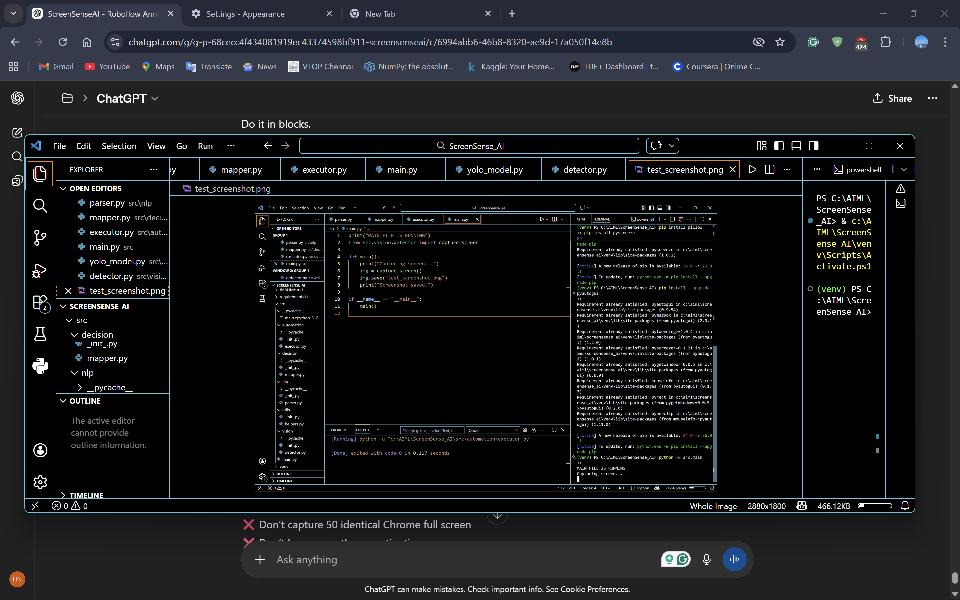close_button: (933, 3, 957, 24)
maximize_button: (904, 2, 925, 23)
minimize_button: (871, 2, 898, 24)
